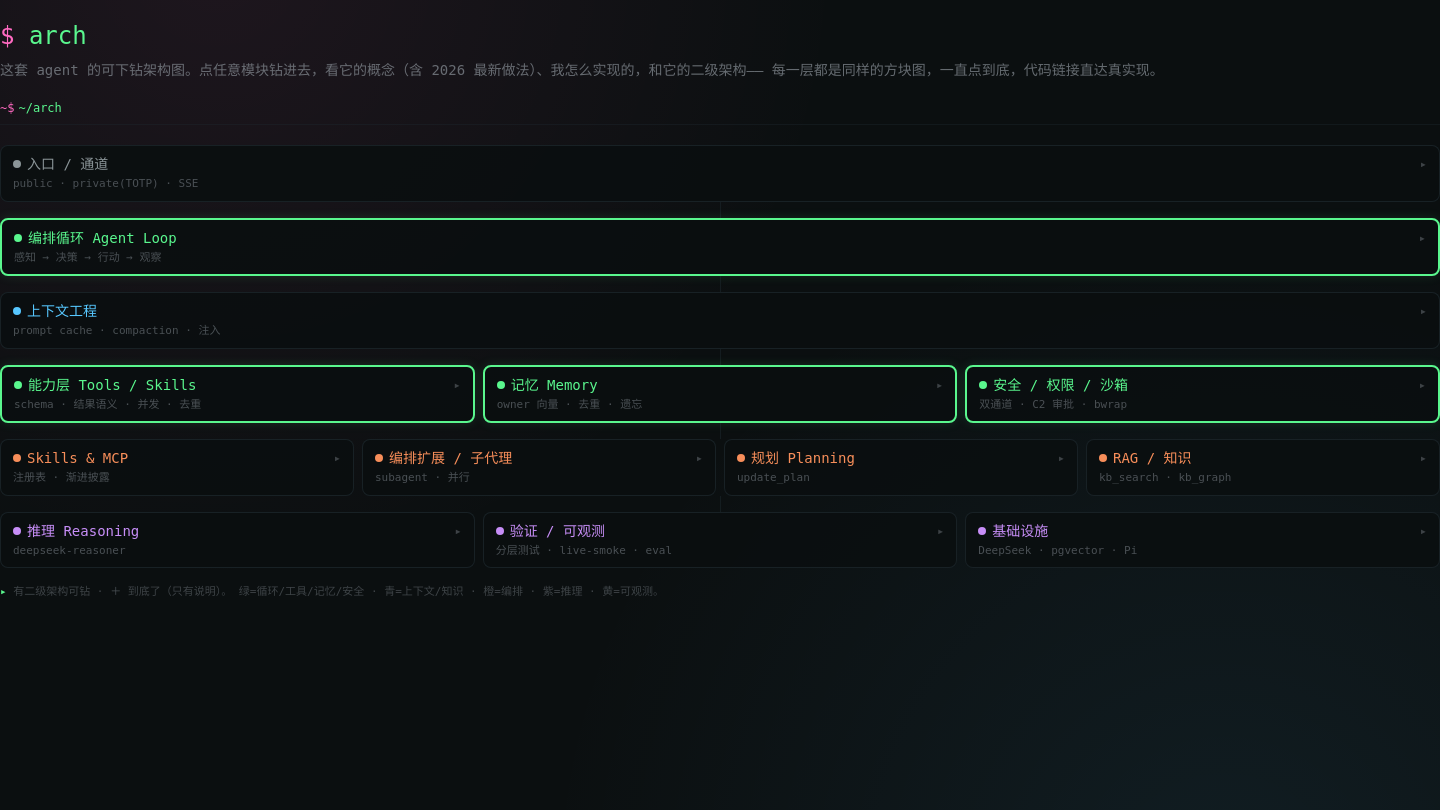
it: Arch 架构解剖器（原地下钻） › 节点展示真实代码块
What coordinates should you click on to do the following:
click the text "能力层 Tools / Skills"
I would click on:
 (112, 384)
Its box is [28,376,196,392].
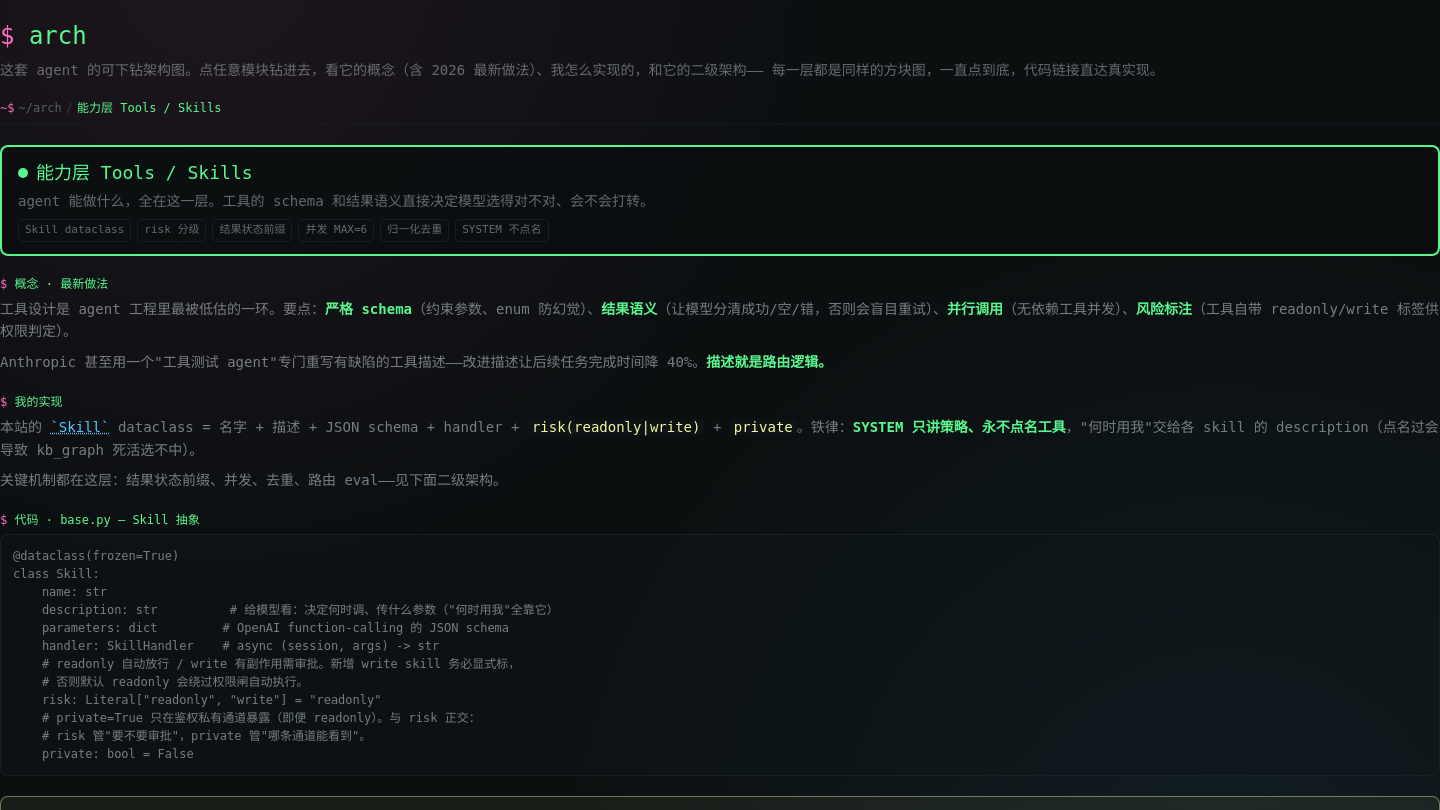
Now the text "$ 代码 · base.py — Skill 抽象" is shown, box [0,513,200,527]
Now the text "risk: Literal[\"readonly\", \"write\"]" is shown, box [13,549,559,761]
